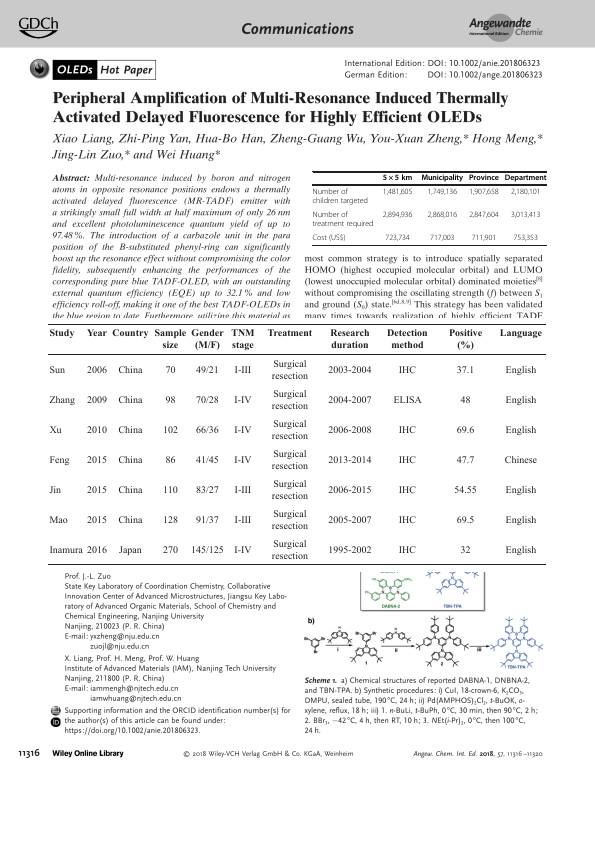borderless: (47, 323, 546, 564), (311, 170, 547, 245)
cell: (312, 210, 374, 228), (312, 187, 369, 205), (386, 329, 428, 352), (329, 329, 370, 352), (270, 389, 309, 413), (270, 360, 309, 383), (270, 419, 309, 442), (270, 449, 309, 472), (270, 479, 309, 502), (270, 509, 309, 532), (270, 539, 309, 562), (448, 329, 483, 352), (153, 329, 187, 352), (190, 329, 224, 352), (230, 329, 255, 352), (327, 395, 372, 407), (266, 329, 313, 340), (498, 329, 543, 340), (327, 366, 372, 377), (327, 425, 372, 436), (327, 455, 372, 466), (327, 485, 372, 496), (327, 515, 372, 526), (327, 545, 372, 556), (111, 329, 149, 340), (420, 174, 464, 183), (504, 395, 537, 407), (504, 174, 547, 183), (503, 455, 538, 466), (48, 545, 83, 556), (190, 545, 224, 556), (504, 366, 537, 377), (504, 425, 537, 436), (504, 485, 537, 496), (504, 515, 537, 526), (504, 545, 537, 556), (392, 395, 422, 407), (48, 395, 76, 407), (426, 187, 458, 197), (468, 187, 500, 197), (312, 233, 347, 242), (117, 395, 143, 407), (382, 187, 413, 197), (510, 187, 541, 197), (48, 329, 75, 340), (468, 174, 500, 183), (426, 210, 458, 219), (468, 210, 500, 219), (195, 395, 219, 407), (117, 366, 143, 377), (117, 425, 143, 436), (117, 455, 143, 466), (117, 485, 143, 496), (117, 515, 143, 526), (382, 174, 413, 183), (382, 210, 413, 219), (510, 210, 541, 219), (195, 366, 219, 377), (86, 395, 108, 407), (195, 425, 219, 436), (195, 455, 219, 466), (195, 485, 219, 496), (453, 485, 477, 496), (195, 515, 219, 526), (118, 545, 142, 556), (384, 233, 411, 242), (512, 233, 539, 242), (86, 329, 108, 340), (85, 366, 107, 377), (85, 425, 107, 436), (48, 455, 70, 466), (86, 455, 108, 466), (86, 485, 108, 496), (86, 515, 108, 526), (86, 545, 108, 556), (429, 233, 455, 242), (471, 233, 497, 242), (233, 395, 252, 407), (397, 366, 417, 377), (455, 366, 475, 377), (397, 425, 417, 436), (455, 425, 475, 436), (397, 455, 417, 466), (455, 455, 475, 466), (397, 485, 417, 496), (48, 515, 68, 526), (397, 515, 417, 526), (455, 515, 475, 526), (397, 545, 417, 556), (233, 366, 252, 377), (233, 425, 252, 436), (233, 455, 252, 466), (233, 485, 252, 496), (233, 515, 252, 526), (233, 545, 252, 556), (48, 366, 66, 377), (162, 425, 179, 436), (162, 515, 179, 526), (162, 545, 179, 556), (162, 485, 178, 496), (48, 425, 62, 436), (48, 485, 62, 496), (164, 395, 176, 407), (459, 395, 471, 407), (164, 366, 176, 377), (164, 455, 176, 466), (459, 545, 471, 556)
